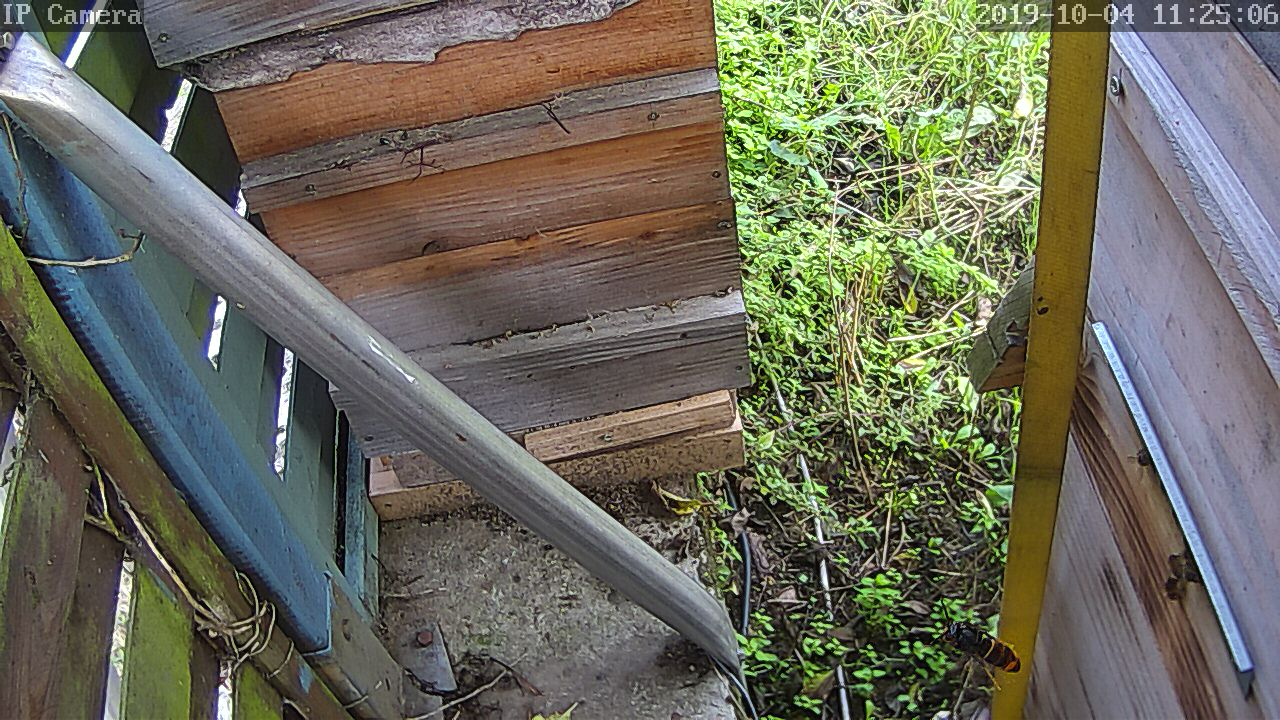bee: (1157, 552, 1198, 603), (1124, 440, 1153, 476)
hornet: (936, 611, 1029, 680)
